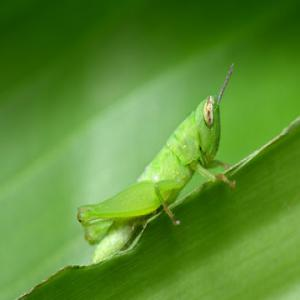locust: (69, 71, 243, 249)
